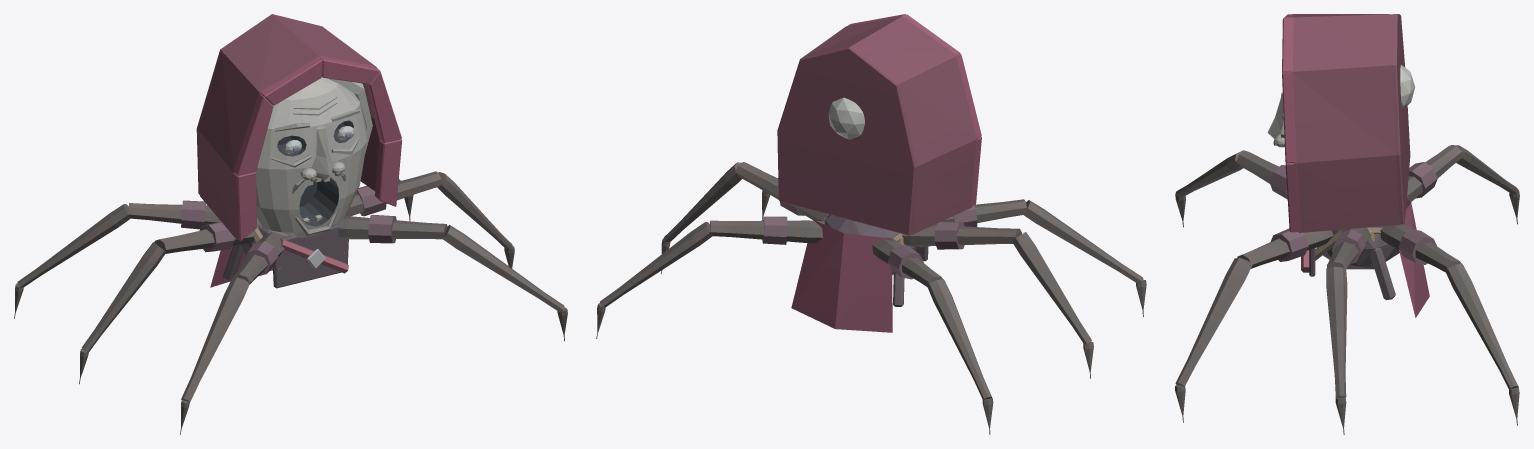
File: SpiderMomAssassin.glb
3 views of the same model, side by side, from view 1: azimuth 30°, elevation 25°; view 2: azimuth 150°, elevation 25°; view 3: azimuth 270°, elevation 25° (orthographic). The views are drawn at different scales.
Visible parts, largest first — view 1: Head, Body, ArmL, LegR, ArmR; view 2: Head, Body, LegL, LegR, ArmR; view 3: Head, Body, ArmL, LegL, LegR, ArmR.
Part boxes in pixels (x1=…): Head: x1=196, y1=14, x2=402, y2=241; Body: x1=79, y1=171, x2=514, y2=384; ArmL: x1=335, y1=214, x2=567, y2=341; LegR: x1=14, y1=200, x2=221, y2=318; ArmR: x1=180, y1=232, x2=284, y2=434; Head: x1=777, y1=14, x2=981, y2=235; Body: x1=661, y1=162, x2=1093, y2=378; LegL: x1=596, y1=216, x2=824, y2=338; LegR: x1=872, y1=237, x2=993, y2=434; ArmR: x1=935, y1=199, x2=1146, y2=316; Head: x1=1267, y1=14, x2=1415, y2=232; Body: x1=1301, y1=199, x2=1429, y2=434; ArmL: x1=1175, y1=228, x2=1333, y2=422; LegL: x1=1380, y1=224, x2=1519, y2=425; LegR: x1=1407, y1=145, x2=1519, y2=224; ArmR: x1=1175, y1=150, x2=1287, y2=227.
Bounding box in the file's own units: 6.21 × 4.09 × 4.11.
